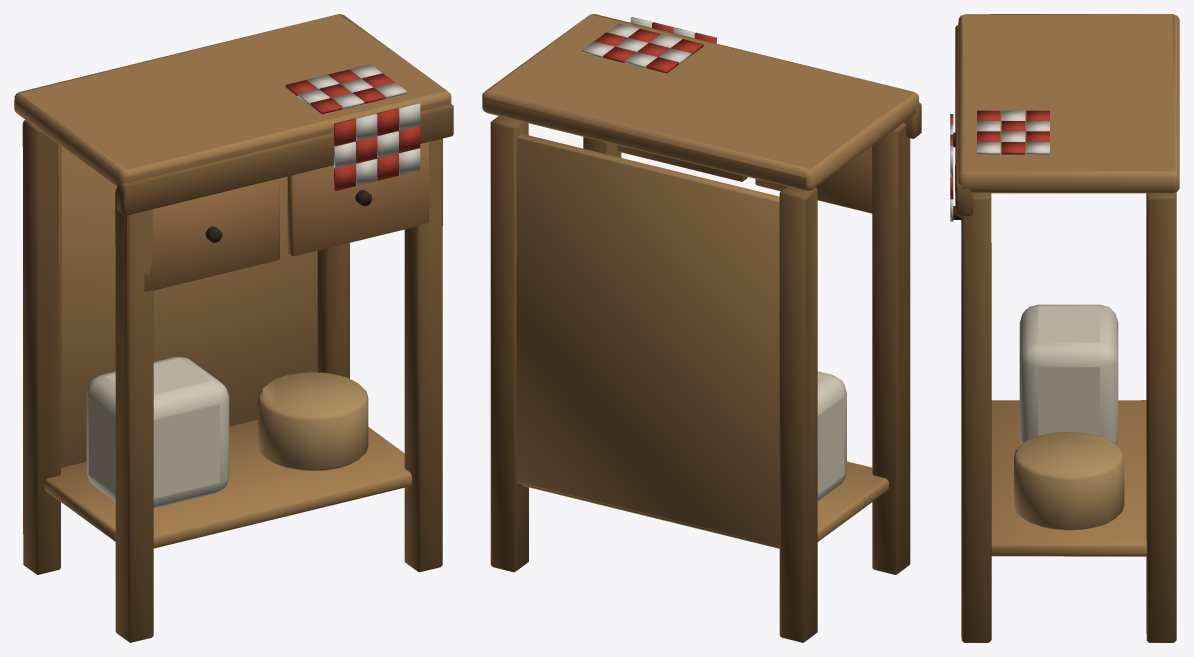
The model's file is quay_ba.glb.
3 renders of one model, left to right at view 1: azimuth 30°, elevation 25°; view 2: azimuth 150°, elevation 25°; view 3: azimuth 270°, elevation 25°, orthographic.
Parts seen in each view (by area): view 1: quay_ba; view 2: quay_ba; view 3: quay_ba.
Boxes of the visible parts, bbox=[...] form: quay_ba: bbox=[14, 14, 453, 642]; quay_ba: bbox=[482, 14, 921, 642]; quay_ba: bbox=[950, 14, 1179, 642].
Size of the model in its own units: 0.6191 by 0.8549 by 0.3718.
